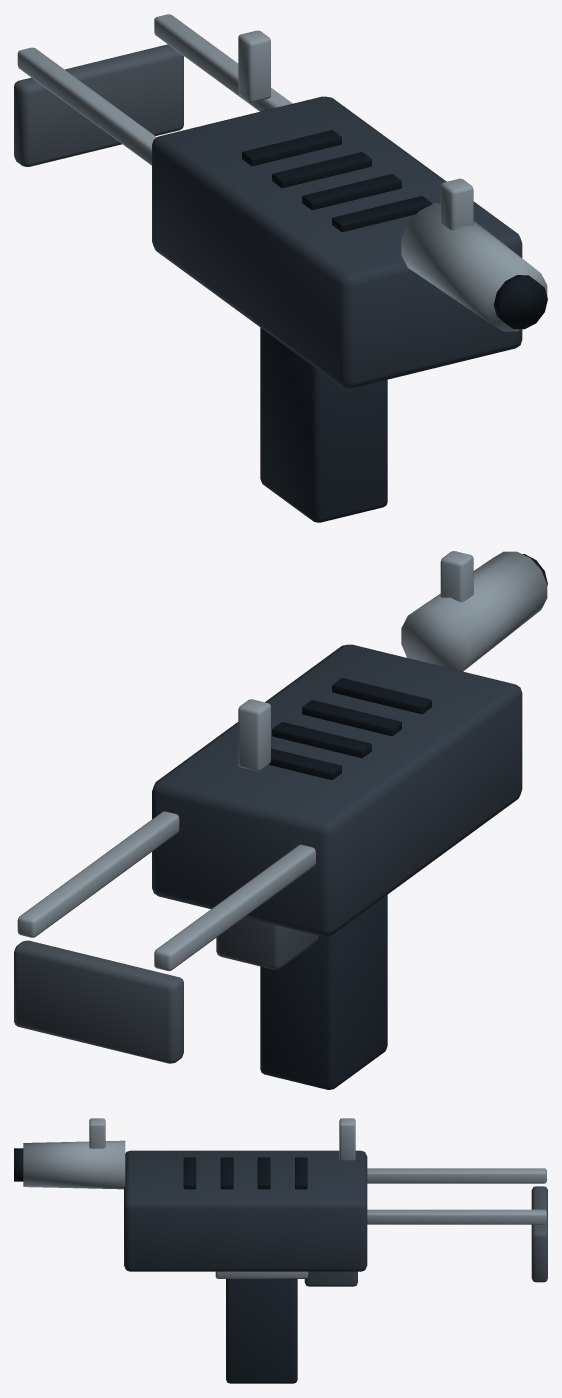
File: bat_uzi.glb
The picture shows the model from 3 angles, top to bottom: view 1: azimuth 30°, elevation 25°; view 2: azimuth 150°, elevation 25°; view 3: azimuth 270°, elevation 25°; orthographic projection. The views are drawn at different scales.
Parts seen in each view (by area): view 1: Cube, Cube.001, Cube.006, Cone, Cube.004, Cube.005, Cone.001, Cube.011, Cube.009, Cube.007, Cube.008, Cube.010 (+1 smaller); view 2: Cube, Cube.001, Cube.006, Cone, Cube.005, Cube.004, Cube.002, Cube.011, Cube.008, Cube.009, Cube.010, Cube.012 (+1 smaller); view 3: Cube, Cube.001, Cone, Cube.004, Cube.005, Cube.006, Cube.002, Cube.003, Cube.011, Cube.012, Cube.008, Cube.009 (+3 smaller).
Boxes of the visible parts, x1=… form: Cube: x1=152, y1=96, x2=522, y2=388; Cube.001: x1=260, y1=327, x2=387, y2=522; Cube.006: x1=14, y1=44, x2=183, y2=166; Cone: x1=401, y1=203, x2=547, y2=331; Cube.004: x1=17, y1=47, x2=156, y2=165; Cube.005: x1=154, y1=14, x2=292, y2=111; Cone.001: x1=494, y1=275, x2=547, y2=329; Cube.011: x1=238, y1=30, x2=270, y2=102; Cube.009: x1=302, y1=174, x2=401, y2=210; Cube.007: x1=242, y1=130, x2=341, y2=166; Cube.008: x1=272, y1=152, x2=371, y2=188; Cube.010: x1=332, y1=196, x2=431, y2=231; Cube: x1=152, y1=644, x2=522, y2=936; Cube.001: x1=260, y1=895, x2=387, y2=1089; Cube.006: x1=14, y1=940, x2=183, y2=1063; Cone: x1=401, y1=551, x2=547, y2=671; Cube.005: x1=17, y1=811, x2=179, y2=937; Cube.004: x1=154, y1=844, x2=315, y2=970; Cube.002: x1=216, y1=917, x2=318, y2=969; Cube.011: x1=238, y1=699, x2=270, y2=771; Cube.008: x1=272, y1=722, x2=371, y2=757; Cube.009: x1=302, y1=700, x2=401, y2=736; Cube.010: x1=332, y1=678, x2=431, y2=714; Cube.012: x1=440, y1=551, x2=473, y2=602; Cube: x1=124, y1=1150, x2=367, y2=1271; Cube.001: x1=226, y1=1279, x2=297, y2=1383; Cone: x1=23, y1=1140, x2=125, y2=1189; Cube.004: x1=367, y1=1168, x2=546, y2=1183; Cube.005: x1=367, y1=1209, x2=546, y2=1224; Cube.006: x1=531, y1=1186, x2=547, y2=1282; Cube.002: x1=304, y1=1271, x2=357, y2=1286; Cube.003: x1=215, y1=1271, x2=308, y2=1278; Cube.011: x1=339, y1=1118, x2=355, y2=1161; Cube.012: x1=89, y1=1118, x2=105, y2=1148; Cube.008: x1=257, y1=1157, x2=270, y2=1189; Cube.009: x1=220, y1=1157, x2=233, y2=1189.
Size of the model in its own units: 0.56 by 1.2 by 2.31.
